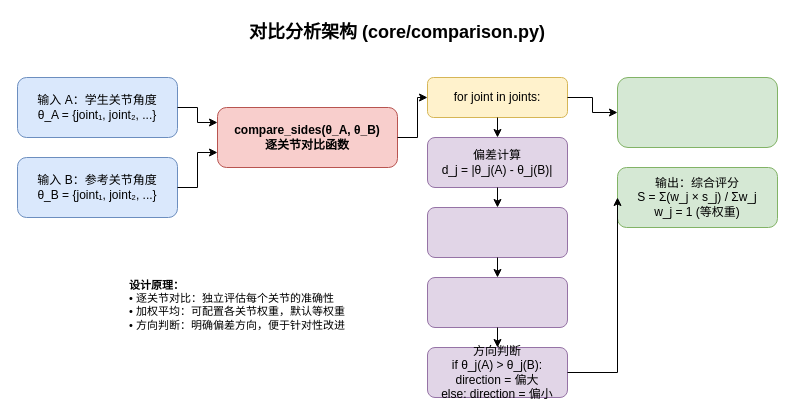
This 795x418 diagram has some shape labels left out. The shapes that lost their labels are listed below. From the top down, each one's centre as x and y in pixels, then its label:
At (x=697, y=112): "输出：各关节详情 {joint: {current, standard, deviation, grade, score, direction}}".
At (x=497, y=232): "评分计算 s_j = 100 × exp(-d_j/25)".
At (x=497, y=302): "等级评定 g_j = deviation_grade(d_j)".
